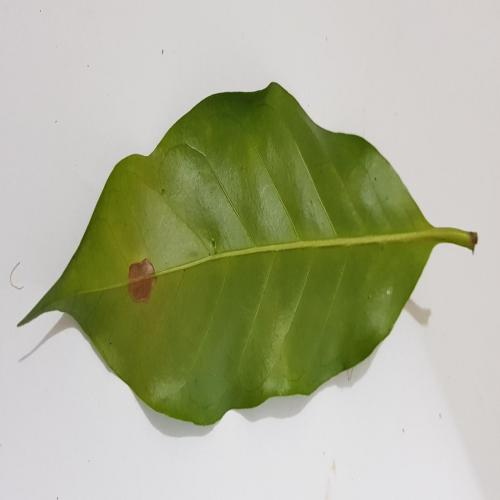leaf: (128, 259, 155, 301)
